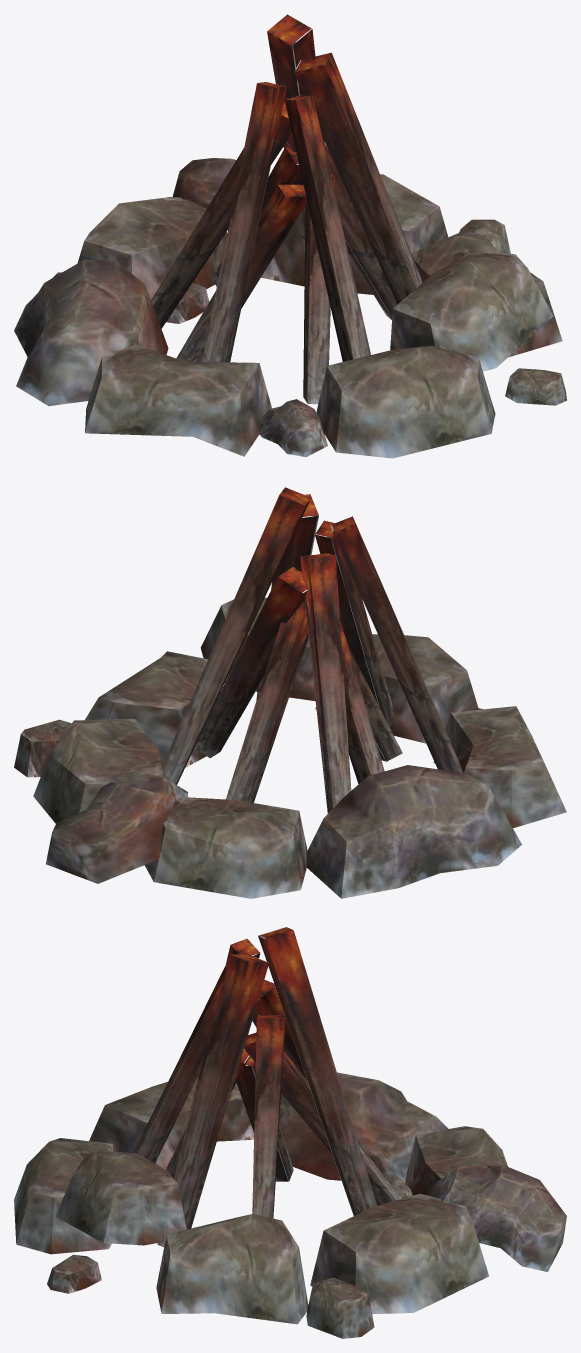
3 renders of one model, top to bottom at view 1: azimuth 30°, elevation 25°; view 2: azimuth 150°, elevation 25°; view 3: azimuth 270°, elevation 25°, orthographic. The views are drawn at different scales.
Parts seen in each view (by area): view 1: Combined_Mesh_root_scene_3_Mesh_polySurface5782; view 2: Combined_Mesh_root_scene_3_Mesh_polySurface5782; view 3: Combined_Mesh_root_scene_3_Mesh_polySurface5782.
Boxes of the visible parts, box(x1,y1,x2,y2) form: Combined_Mesh_root_scene_3_Mesh_polySurface5782: box(14, 14, 566, 458); Combined_Mesh_root_scene_3_Mesh_polySurface5782: box(14, 487, 566, 898); Combined_Mesh_root_scene_3_Mesh_polySurface5782: box(14, 927, 566, 1338).
Size of the model in its own units: 3.12 by 1.92 by 3.24.
